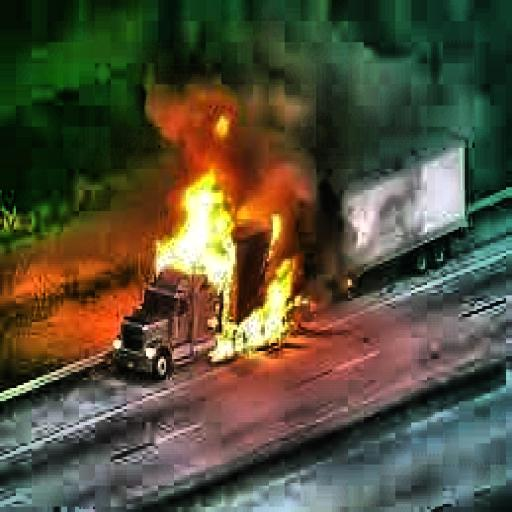fire: (150, 145, 306, 356)
